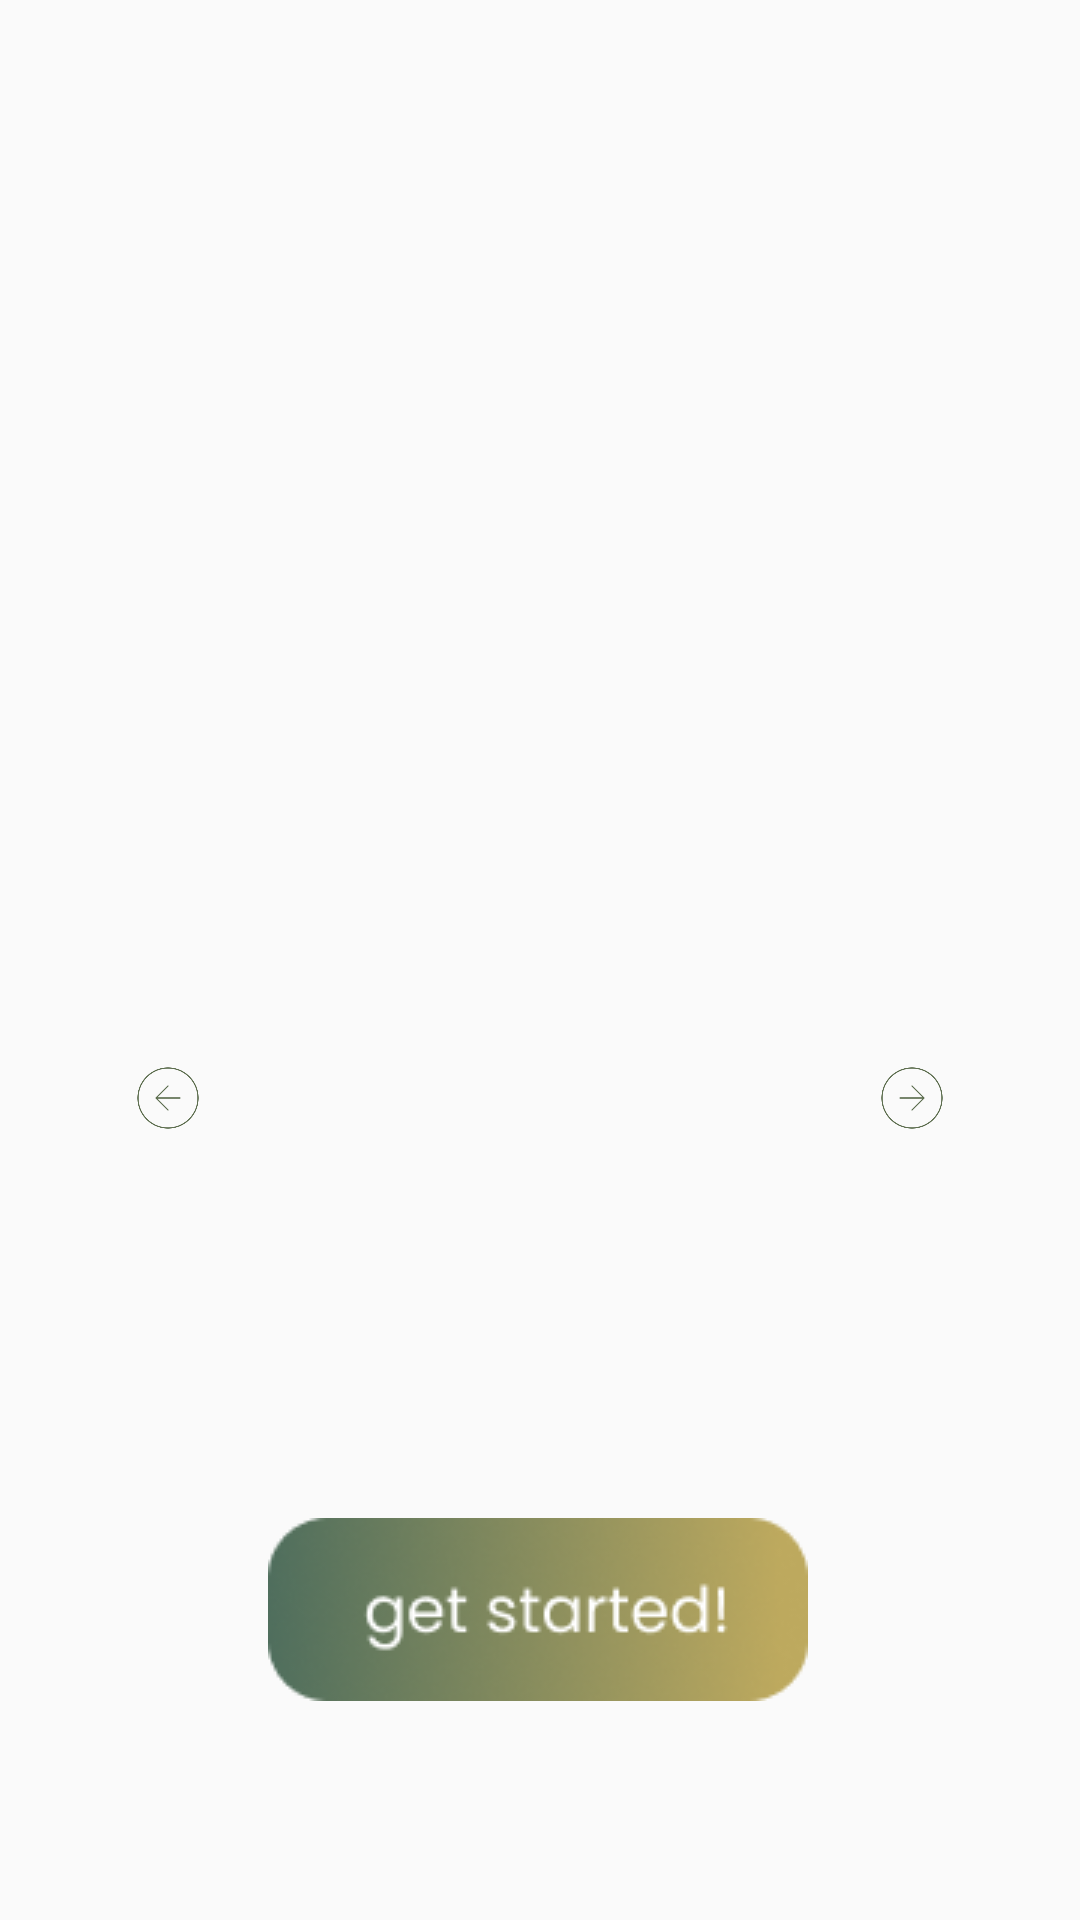

Icon bounding boxes for this 1080x1920 phone screenshot, format (x1, y1, x2, y2):
arrow left: (137, 1067, 199, 1129)
arrow right: (881, 1067, 943, 1129)
